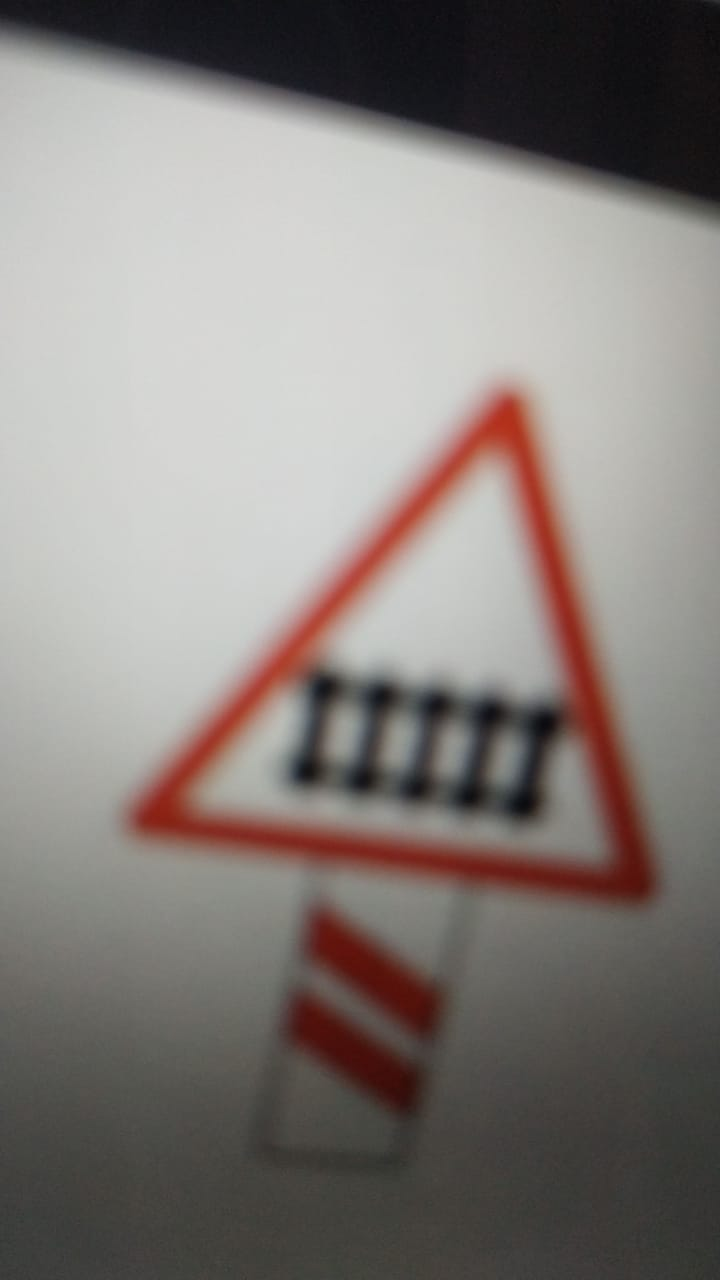GUARDED LEVEL CROSSING: (109, 314, 681, 922)
